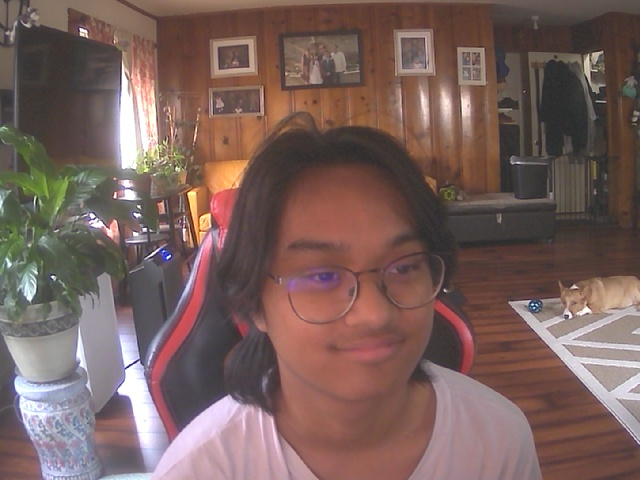happy: (238, 138, 451, 401)
